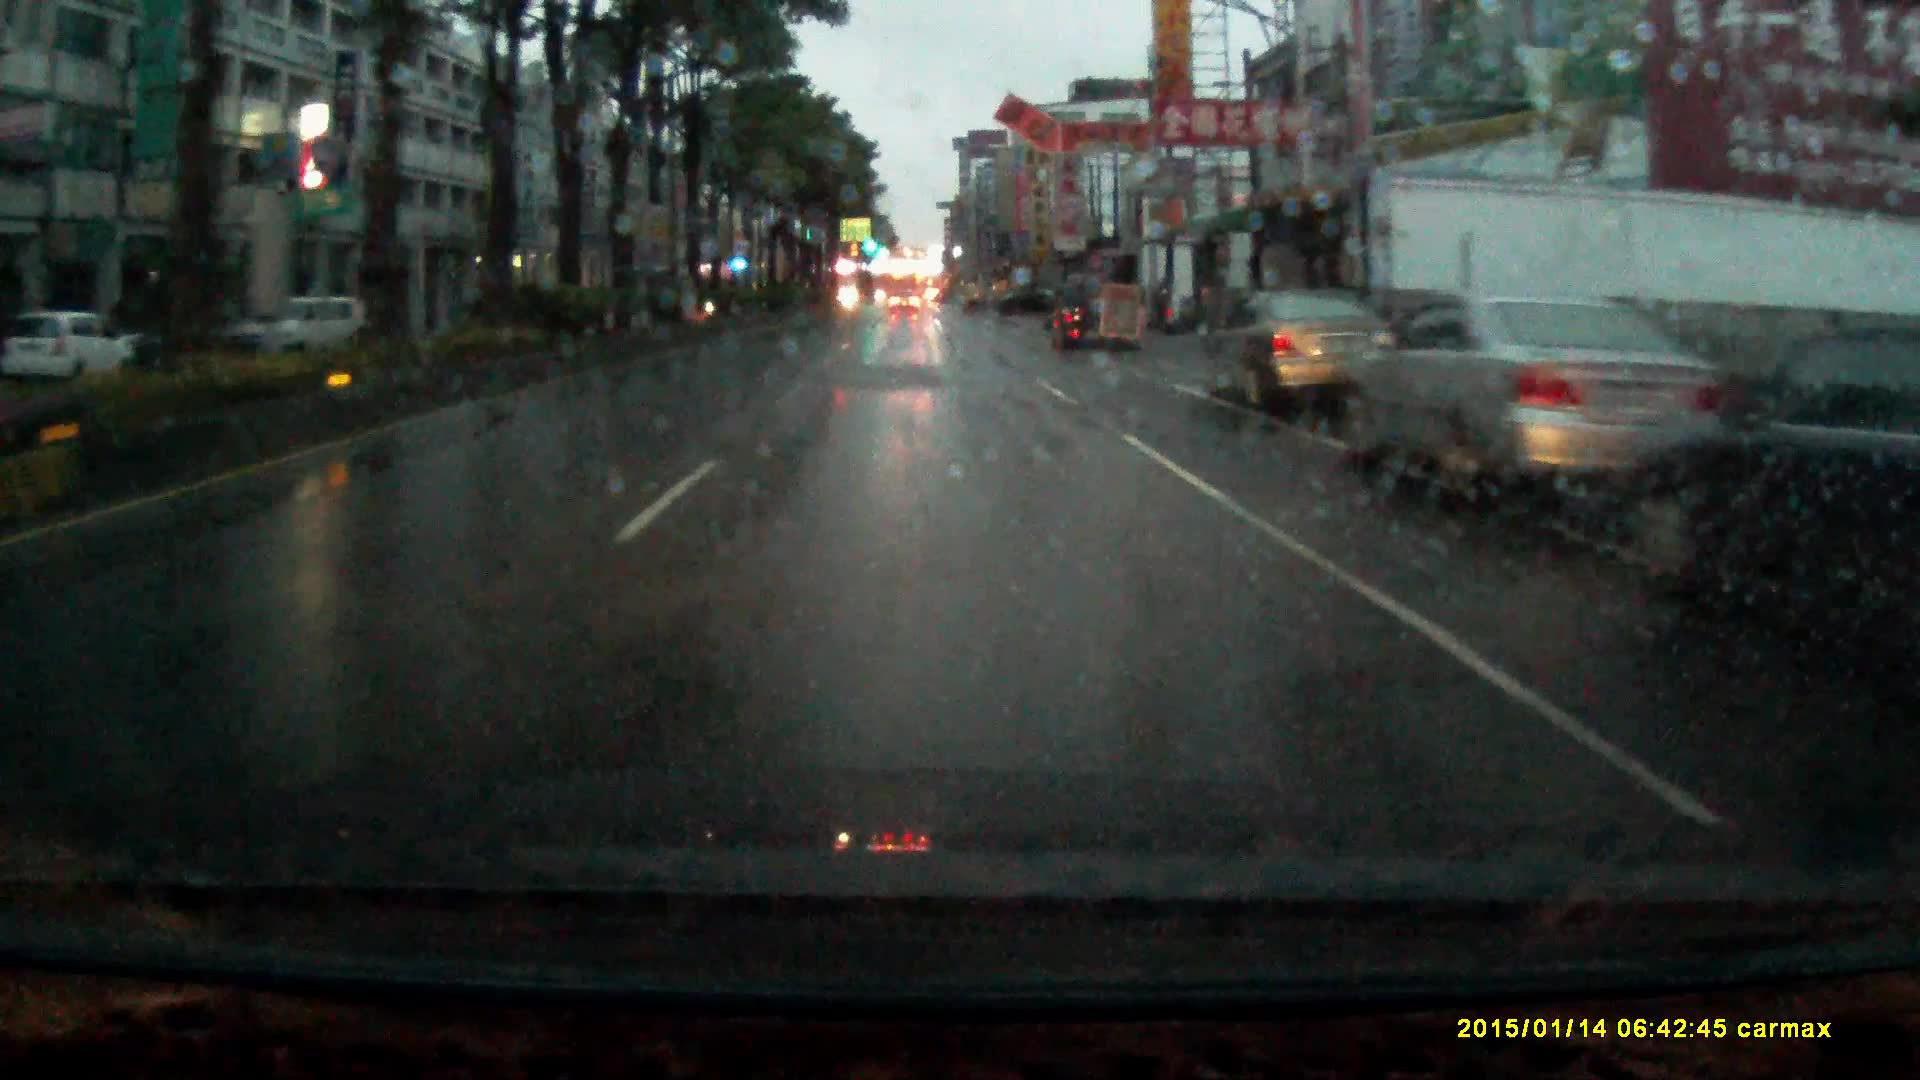vehicle: (1610, 320, 1920, 607), (1335, 295, 1733, 516), (1208, 294, 1399, 411), (1, 313, 125, 386), (225, 295, 364, 361), (1051, 281, 1133, 353), (889, 287, 922, 320)
